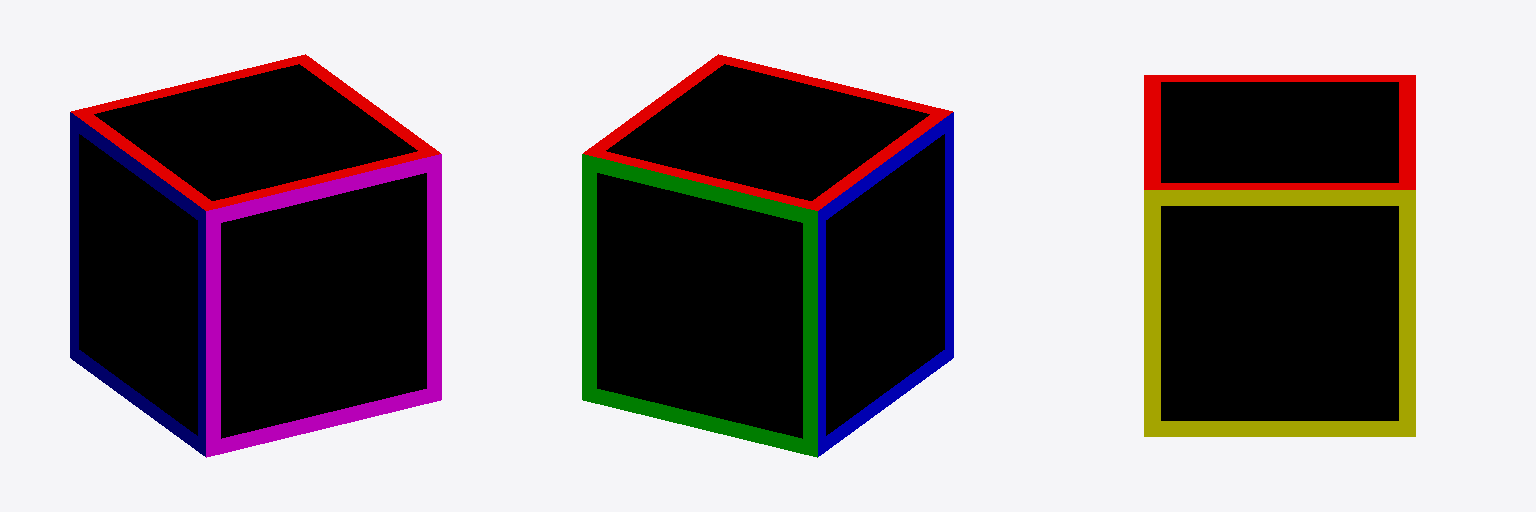
3 renders of one model, left to right at view 1: azimuth 30°, elevation 25°; view 2: azimuth 150°, elevation 25°; view 3: azimuth 270°, elevation 25°, orthographic.
Parts seen in each view (by area): view 1: cube, cube.001; view 2: cube, cube.001; view 3: cube, cube.001.
Boxes of the visible parts, x1,y1,x2,y2 form: cube: [70, 55, 441, 457]; cube.001: [70, 54, 441, 456]; cube: [582, 54, 953, 457]; cube.001: [582, 55, 953, 456]; cube: [1144, 75, 1415, 436]; cube.001: [1144, 75, 1415, 436].
Bounding box in the file's own units: 1 × 1 × 1.
Materials: 1 (1 with a texture image).